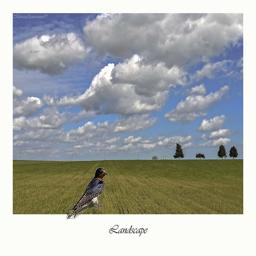Swallow: (66, 167, 107, 220)
